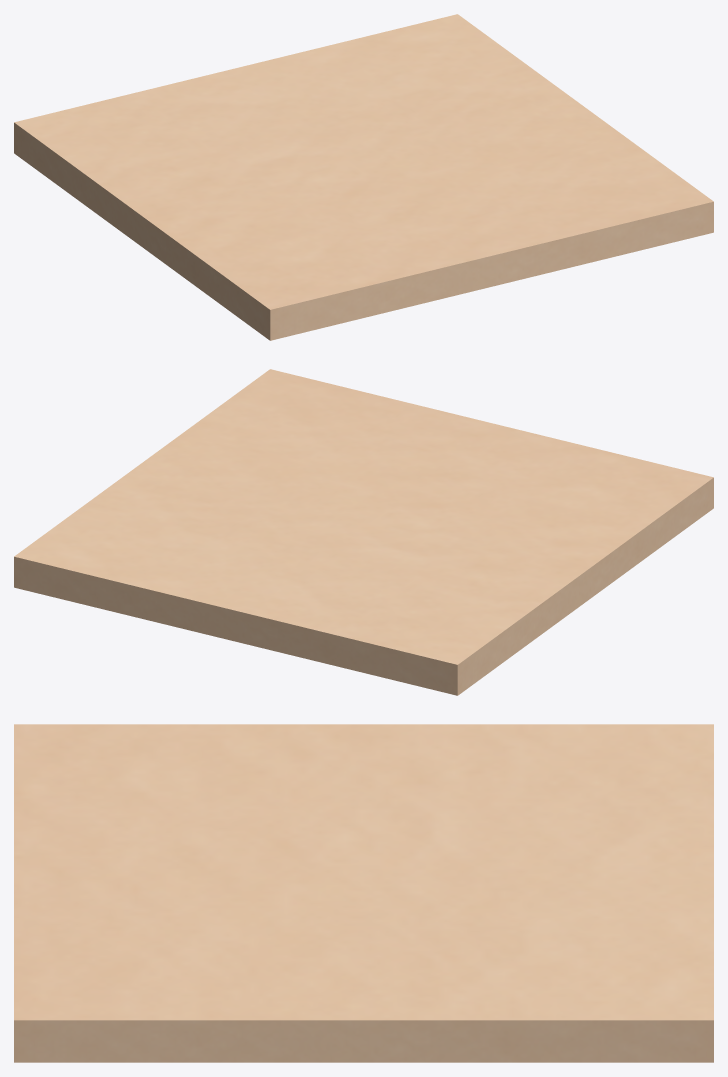
File: Light_CeilingPanel.fbx
The picture shows the model from 3 angles, top to bottom: view 1: azimuth 30°, elevation 25°; view 2: azimuth 150°, elevation 25°; view 3: azimuth 270°, elevation 25°; orthographic projection. The views are drawn at different scales.
Visible parts, largest first — view 1: Light_CeilingPanel; view 2: Light_CeilingPanel; view 3: Light_CeilingPanel.
Part boxes in pixels (left/top/right/bottom): Light_CeilingPanel: left=14, top=14, right=713, bottom=340; Light_CeilingPanel: left=14, top=369, right=713, bottom=695; Light_CeilingPanel: left=14, top=724, right=713, bottom=1062.
Size of the model in its own units: 0.6 by 0.042 by 0.6.
Materials: 2 (1 with a texture image).
